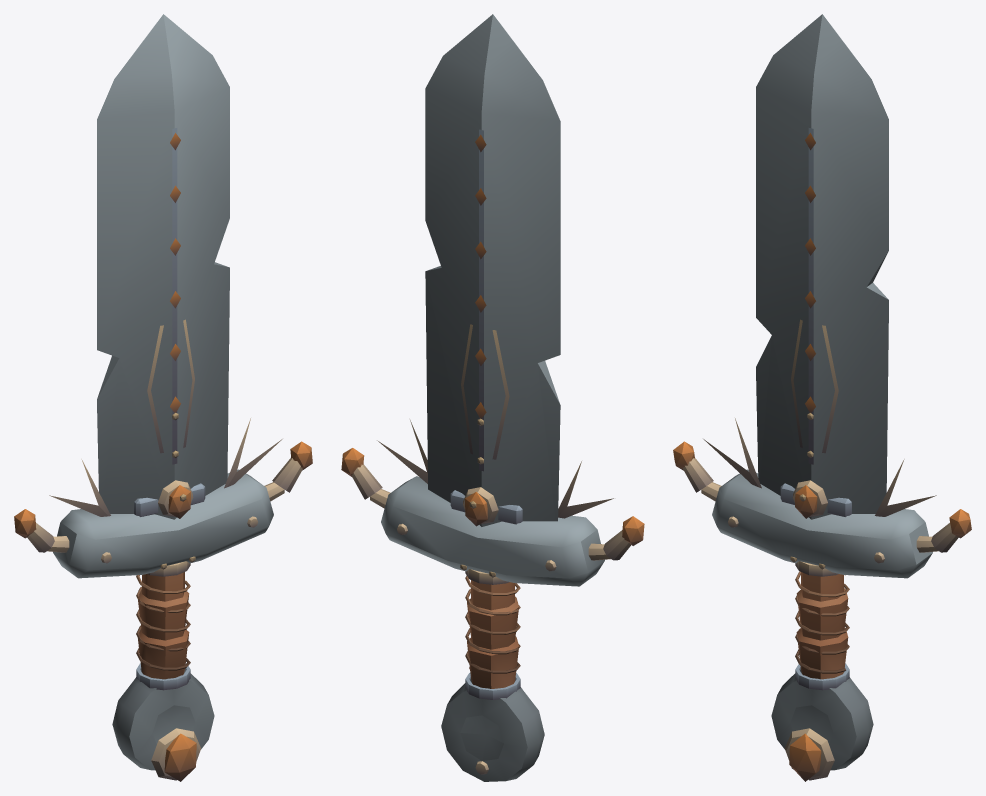
File: espada_runica_t5.glb
3 views of the same model, side by side, from view 1: azimuth 30°, elevation 25°; view 2: azimuth 150°, elevation 25°; view 3: azimuth 330°, elevation 25° (orthographic).
Parts seen in each view (by area): view 1: espada_runica_t5_finished; view 2: espada_runica_t5_finished; view 3: espada_runica_t5_finished.
Boxes of the visible parts, box(x1,y1,x2,y2) form: espada_runica_t5_finished: box(14, 14, 312, 781); espada_runica_t5_finished: box(341, 14, 644, 781); espada_runica_t5_finished: box(673, 14, 971, 781).
Bounding box in the file's own units: 0.7283 × 1.78 × 0.1781.
2 materials, 2 textured.
